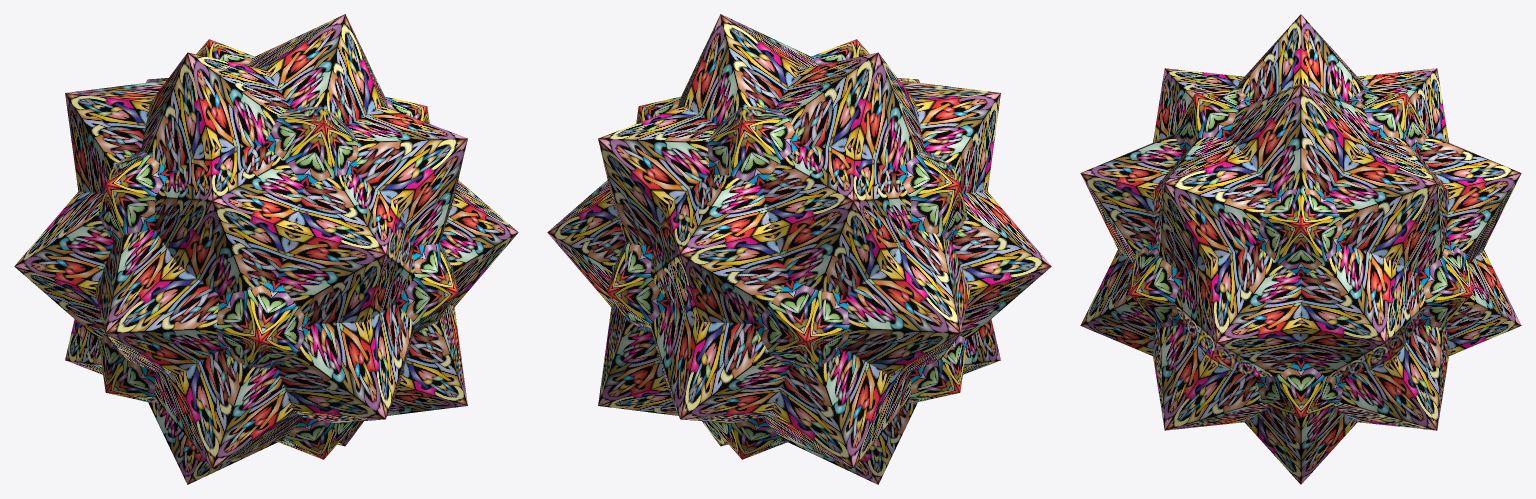
File: 33MedialIcosacronicHexecontahedron.obj
The picture shows the model from 3 angles, left to right: view 1: azimuth 30°, elevation 25°; view 2: azimuth 150°, elevation 25°; view 3: azimuth 270°, elevation 25°; orthographic projection. The views are drawn at different scales.
Size of the model in its own units: 3.24 by 3.24 by 3.24.
1 material, 1 textured.
